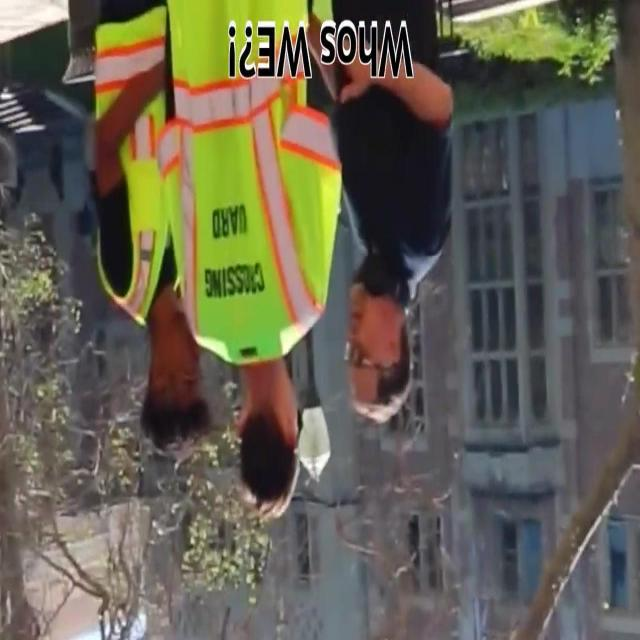jacket: (163, 0, 335, 364), (80, 0, 160, 352)
